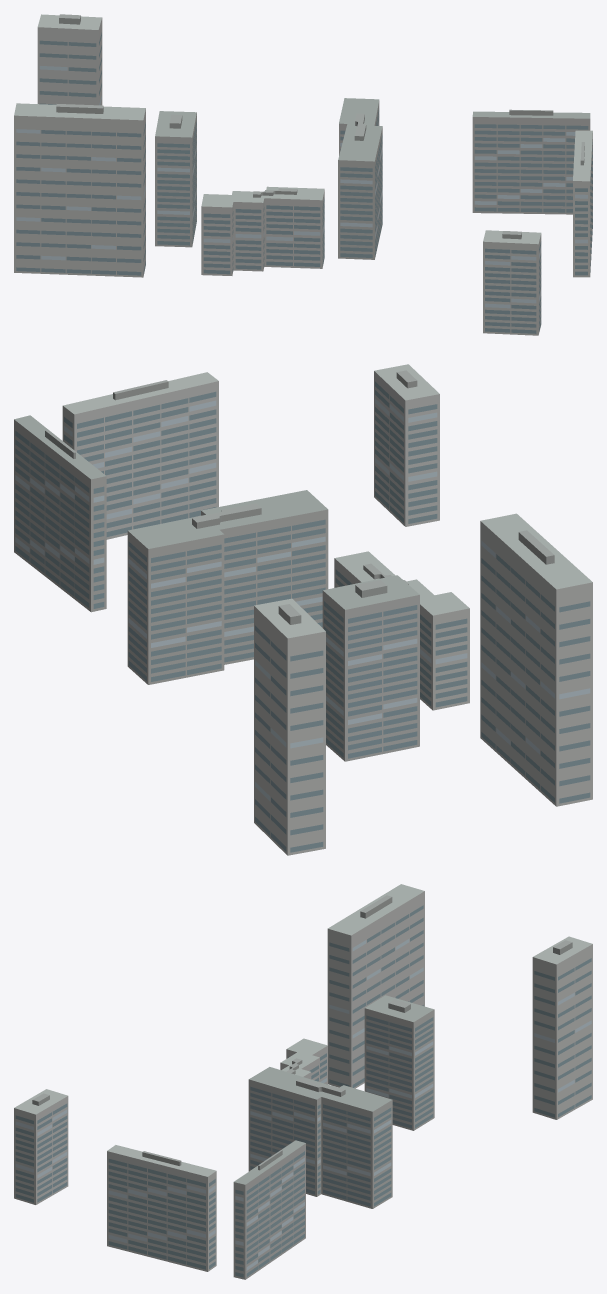
The model's file is apt-a15704025.glb.
3 renders of one model, top to bottom at view 1: azimuth 30°, elevation 25°; view 2: azimuth 150°, elevation 25°; view 3: azimuth 270°, elevation 25°, orthographic. The views are drawn at different scales.
Parts seen in each view (by area): view 1: apt-a15704025; view 2: apt-a15704025; view 3: apt-a15704025.
Boxes of the visible parts, <box> form: apt-a15704025: <box>14,14,592,335</box>; apt-a15704025: <box>14,364,592,855</box>; apt-a15704025: <box>14,884,592,1279</box>.
Bounding box in the file's own units: 217 × 68 × 221.
